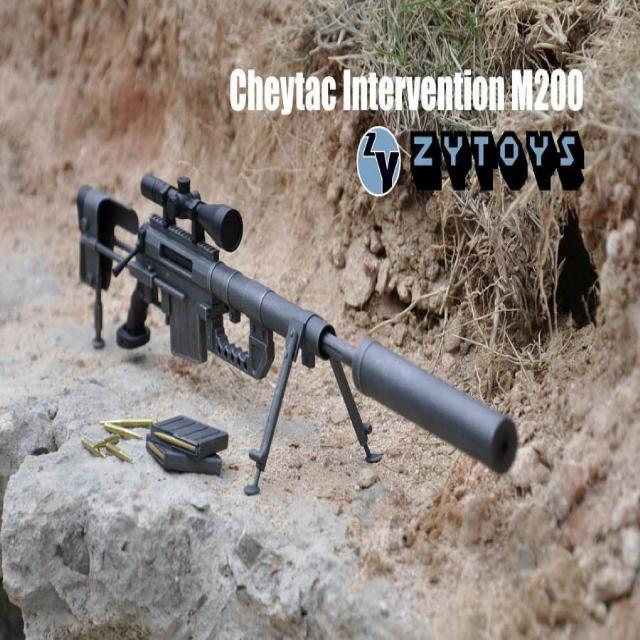rifle: (75, 203, 522, 482)
